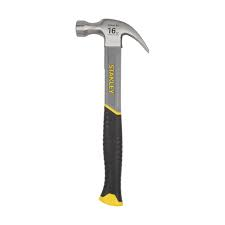martillu: (72, 14, 153, 208)
